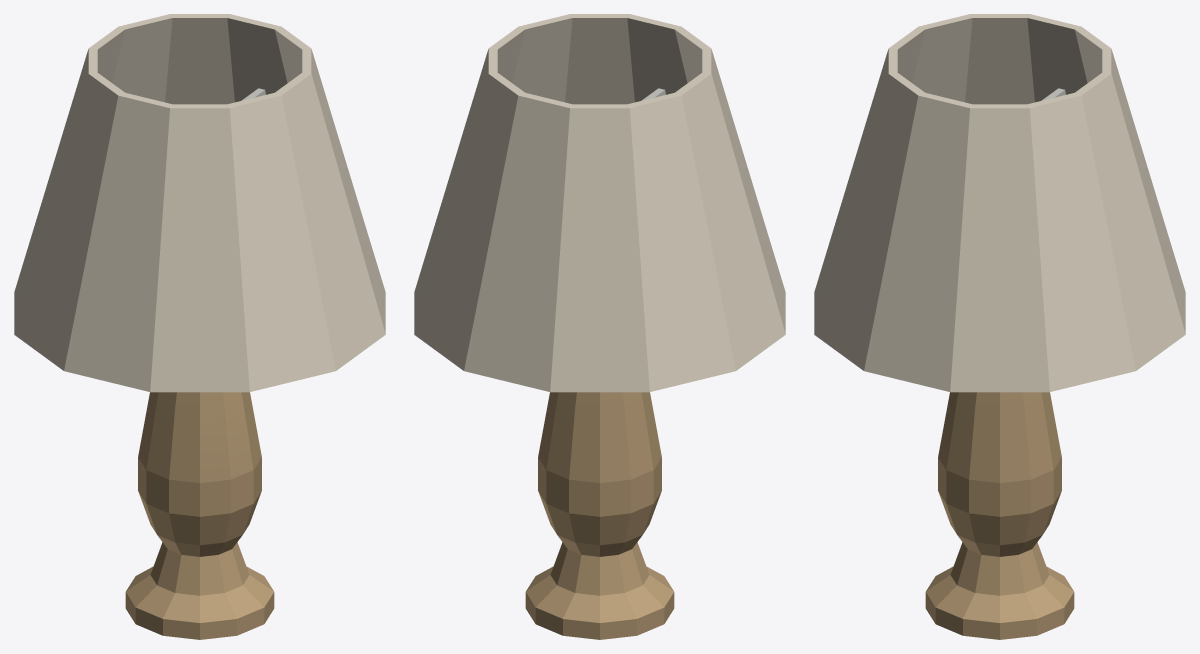
The model's file is Prop_Misc_Lamp.obj.
3 renders of one model, left to right at view 1: azimuth 30°, elevation 25°; view 2: azimuth 150°, elevation 25°; view 3: azimuth 270°, elevation 25°, orthographic.
Visible parts, largest first — view 1: object4, object5; view 2: object4, object5; view 3: object4, object5.
Boxes of the visible parts, box(x1,y1,x2,y2) form: object4: box(14, 14, 385, 392); object5: box(125, 392, 274, 639); object4: box(414, 14, 785, 392); object5: box(525, 392, 674, 639); object4: box(814, 14, 1185, 392); object5: box(925, 392, 1074, 639).
Size of the model in its own units: 0.5 by 0.8128 by 0.5.
